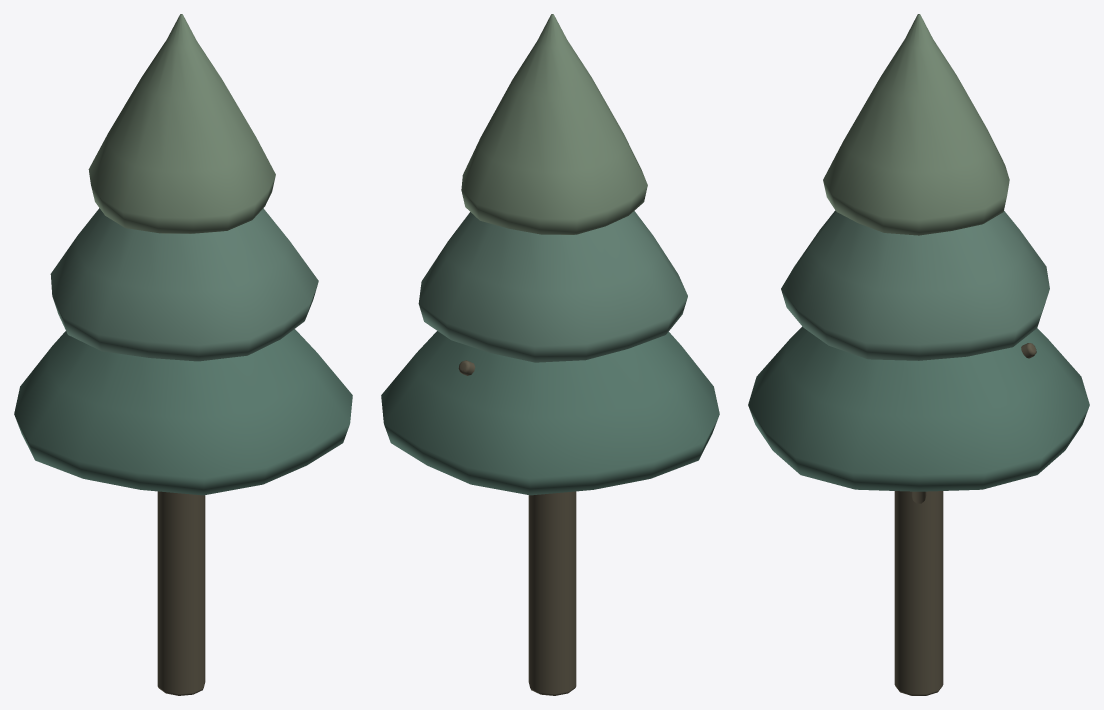
The model's file is forest-pine.glb.
3 views of the same model, side by side, from view 1: azimuth 30°, elevation 25°; view 2: azimuth 150°, elevation 25°; view 3: azimuth 270°, elevation 25° (orthographic).
Visible parts, largest first — view 1: forest-pine_Discovery_Mesh; view 2: forest-pine_Discovery_Mesh; view 3: forest-pine_Discovery_Mesh.
Boxes of the visible parts, <box> form: forest-pine_Discovery_Mesh: <box>14,14,352,695</box>; forest-pine_Discovery_Mesh: <box>381,14,719,695</box>; forest-pine_Discovery_Mesh: <box>748,14,1089,695</box>.
Bounding box in the file's own units: 2.09 × 4.55 × 2.09.
